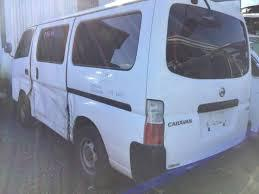Van: (11, 0, 253, 182)
